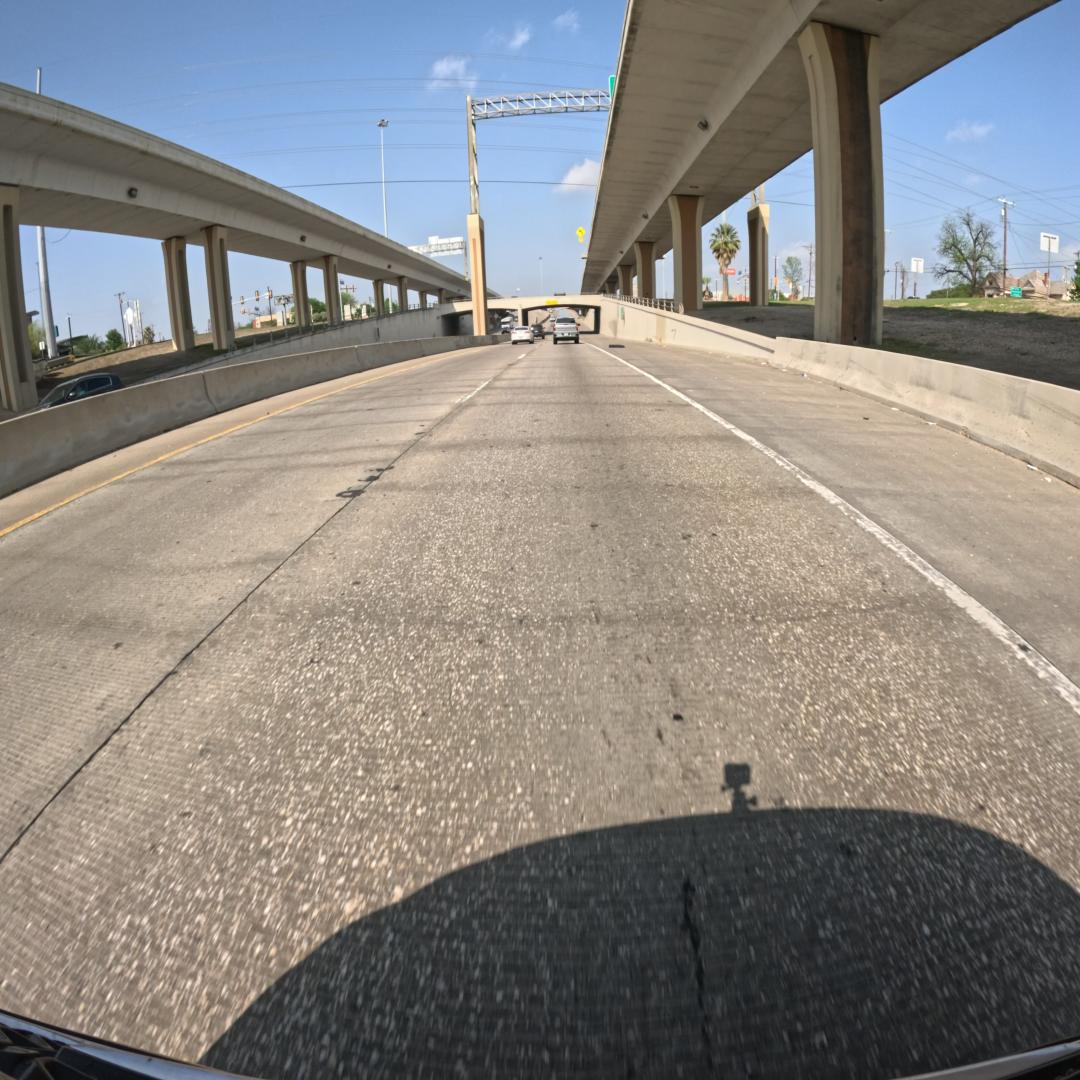lane0: (0, 343, 1080, 1077)
lane1: (0, 345, 535, 861)
